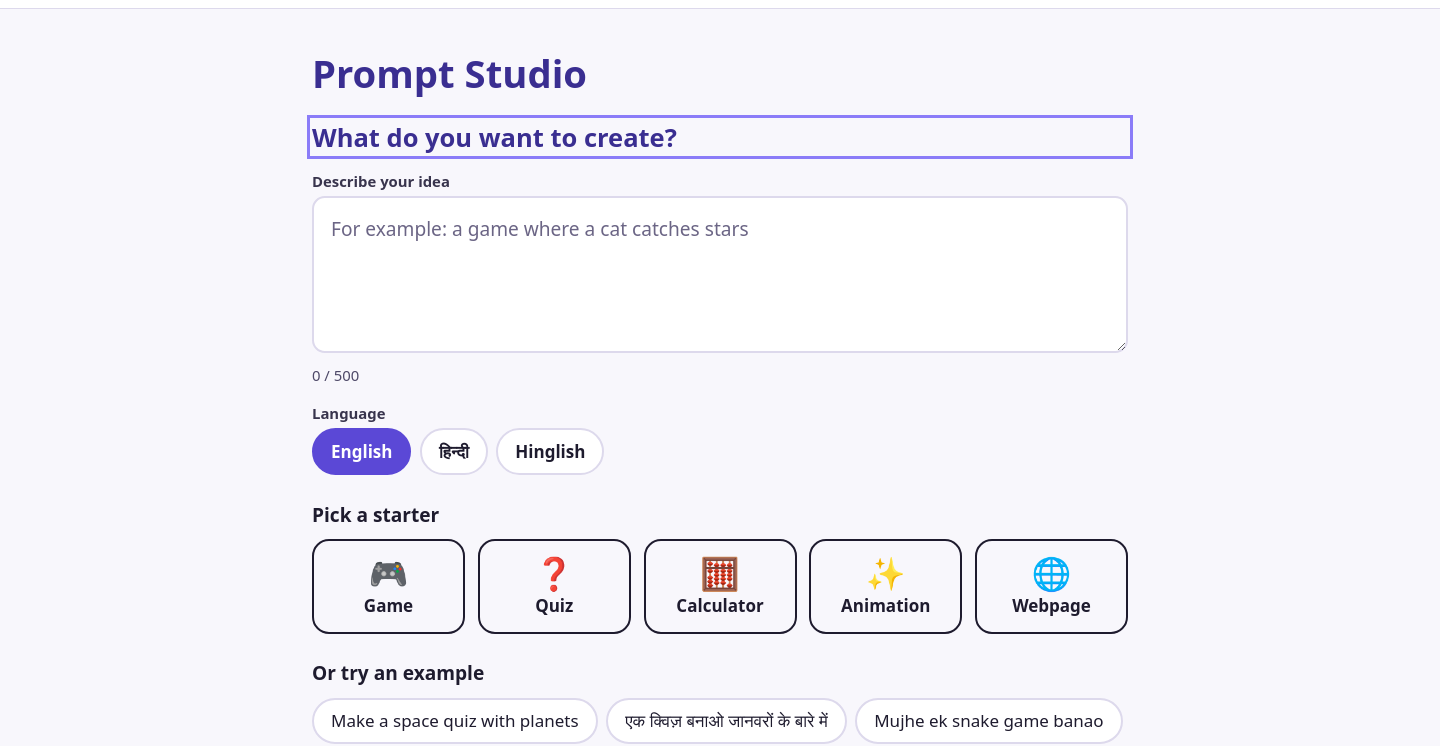
Test: Prompt Studio › asks a clarifying question, then sends the answer
This screenshot has width=1440, height=746.
Expected: the heading "What do you want to create?" is shown, [312,120,677,154]
Step 1. Type "make a quiz" into the text box labelled "Describe your idea" → coordinates (720, 275), box [312,196,1128,353]
(page scrolled)
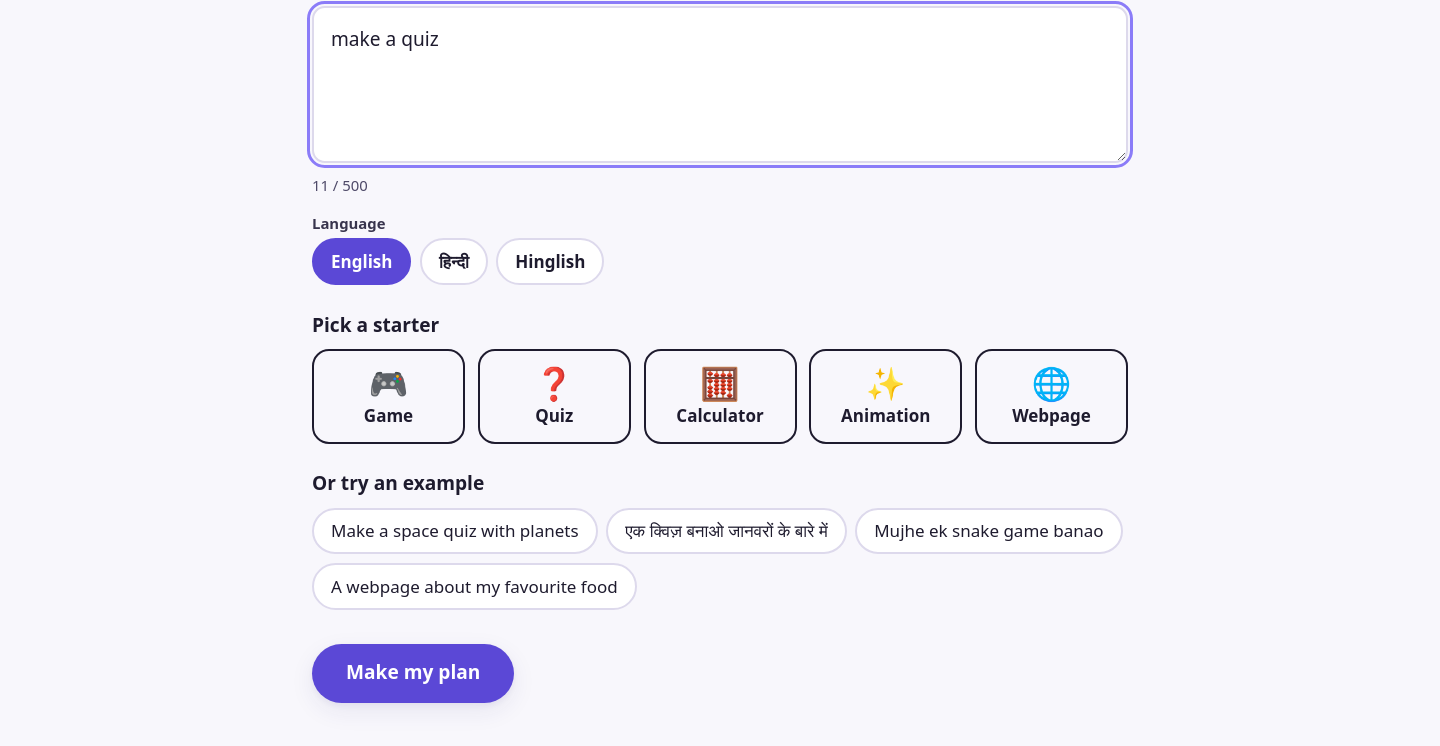
Step 2. Click the button "Make my plan" → coordinates (413, 673), box [312,644,514,703]
(page scrolled)
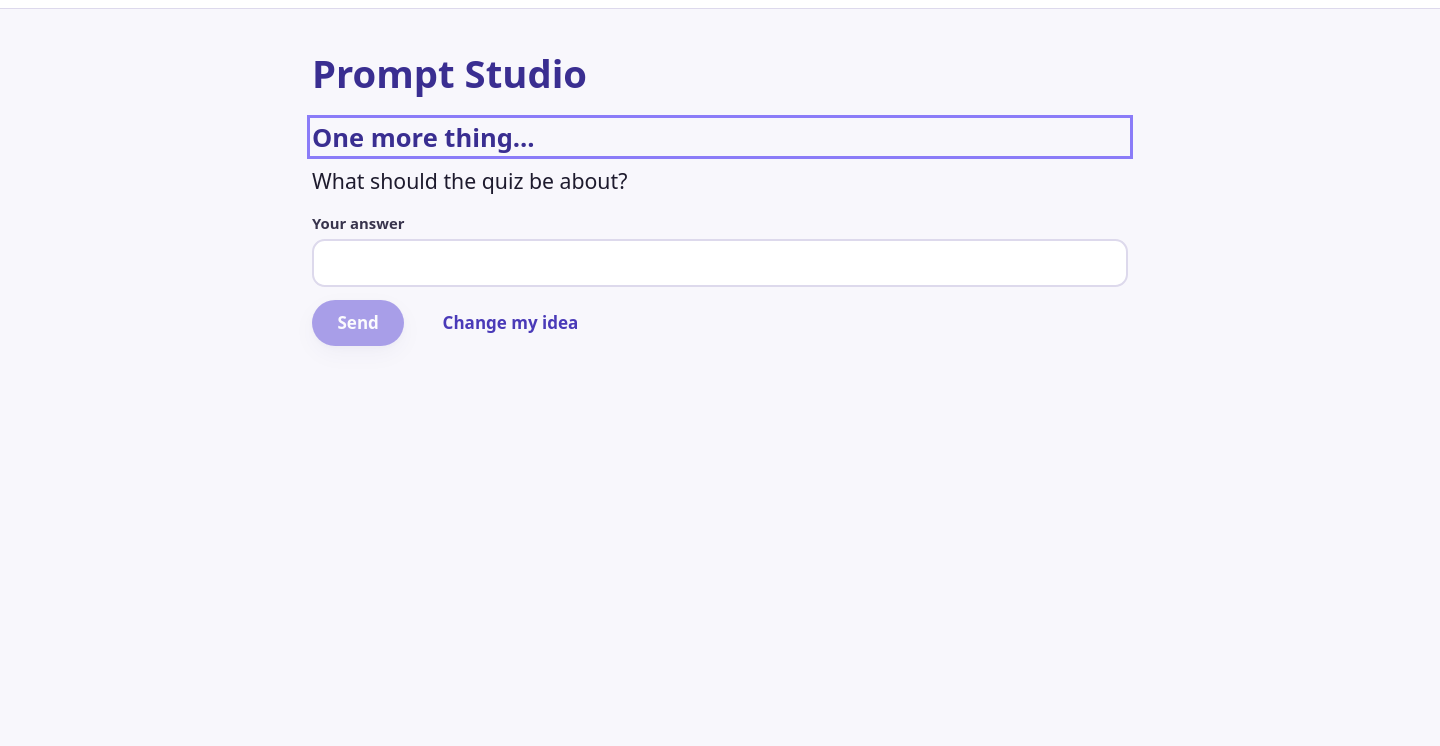
Expected: the text "What should the quiz be about?" is shown, [312,166,627,196]
Step 3. Type "dinosaurs" into the field labelled "Your answer" → coordinates (720, 263), box [312,239,1128,287]
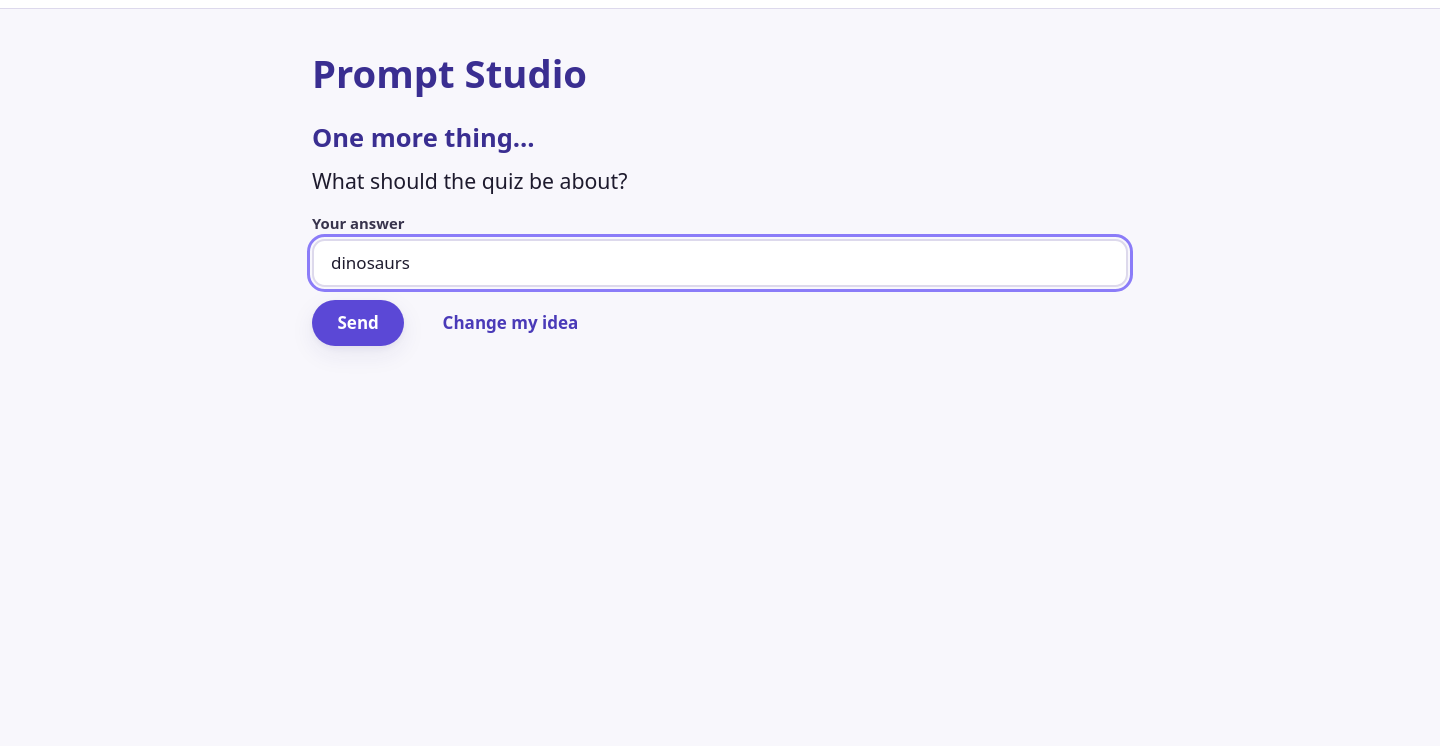
Step 4. Click the button "Send" → coordinates (358, 323), box [312,300,404,346]
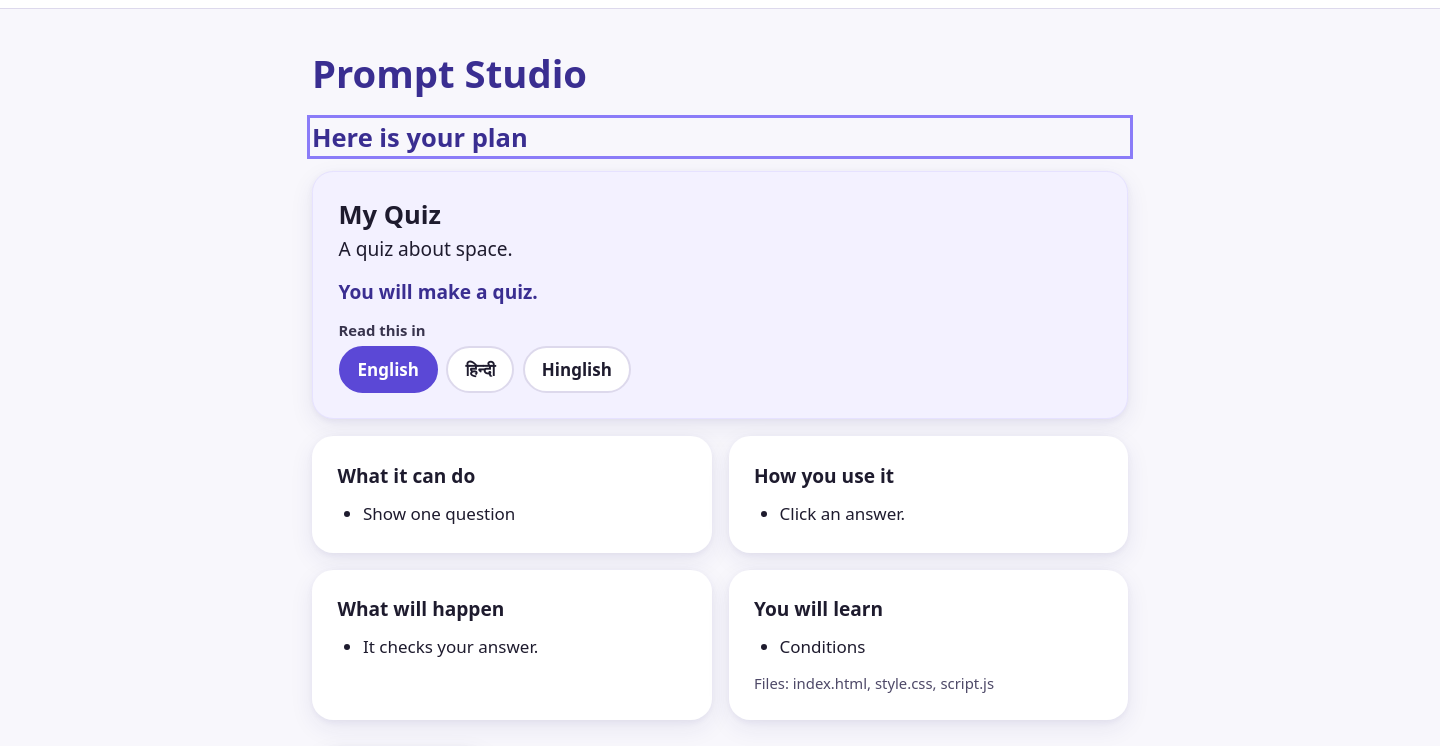
Expected: the heading "Here is your plan" is shown, [312,120,528,154]
